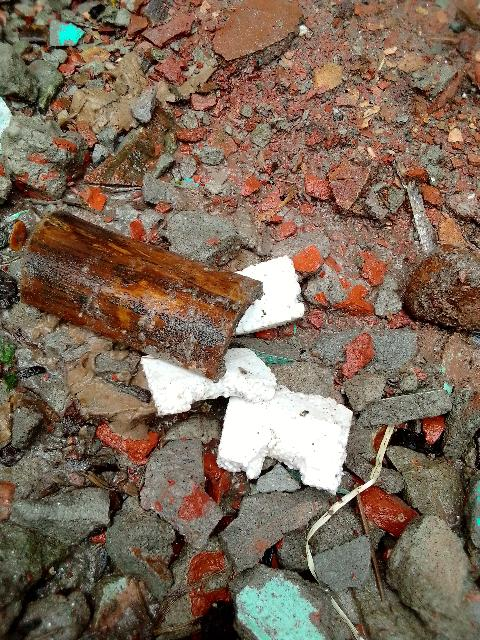cocksheet: (104, 218, 382, 506)
